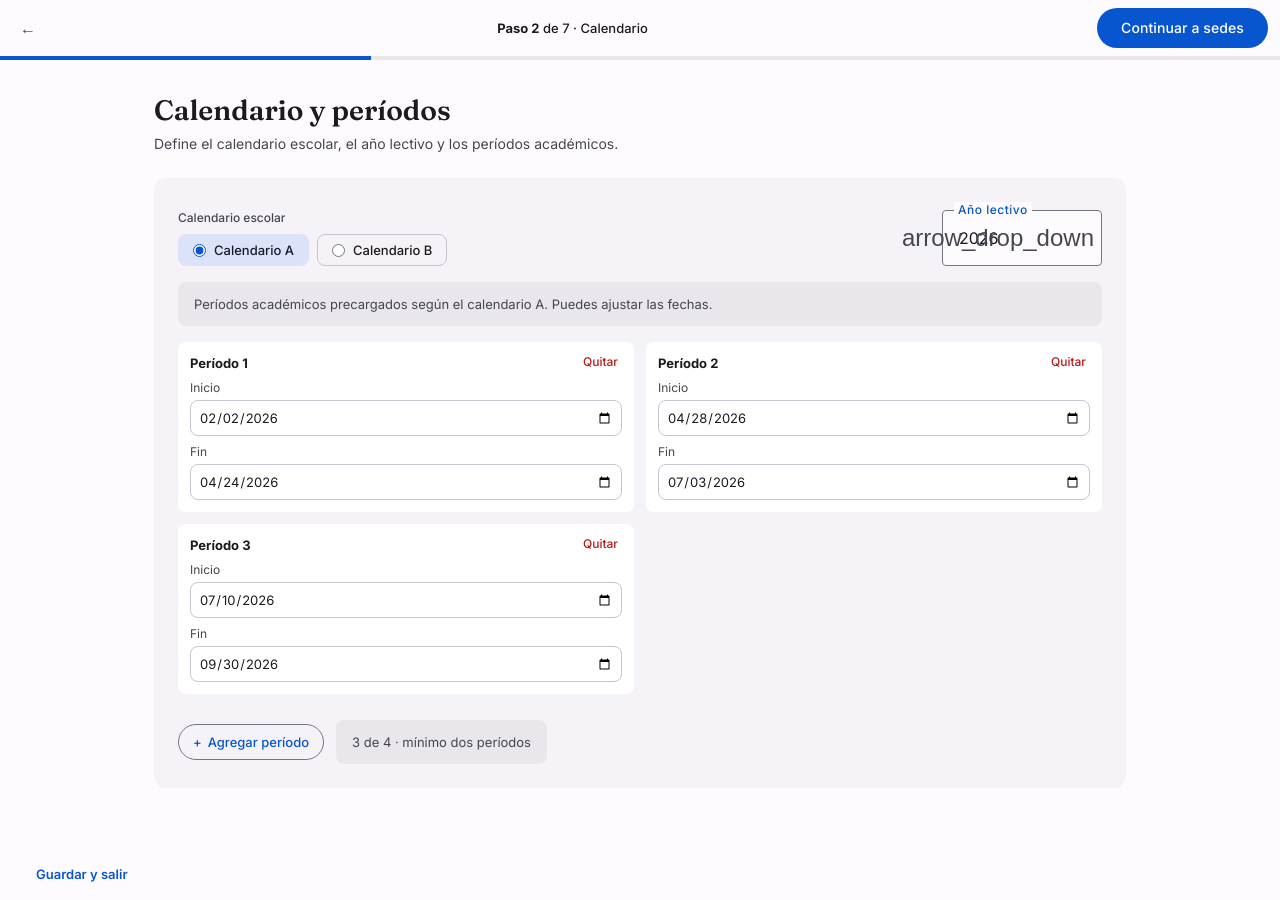
it: Onboarding · paso 1 (identidad) › agrega períodos hasta el tope de cuatro y no deja pasar de ahí
The image size is (1280, 900).
expect the radio button labelled "Calendario A" is shown: met, box left=193, top=244, right=206, bottom=256
expect the text "3 de 4 · mínimo dos períodos" is shown: met, box left=336, top=720, right=547, bottom=764
Click the button "+ Agregar período": (251, 742) left=178, top=724, right=324, bottom=760
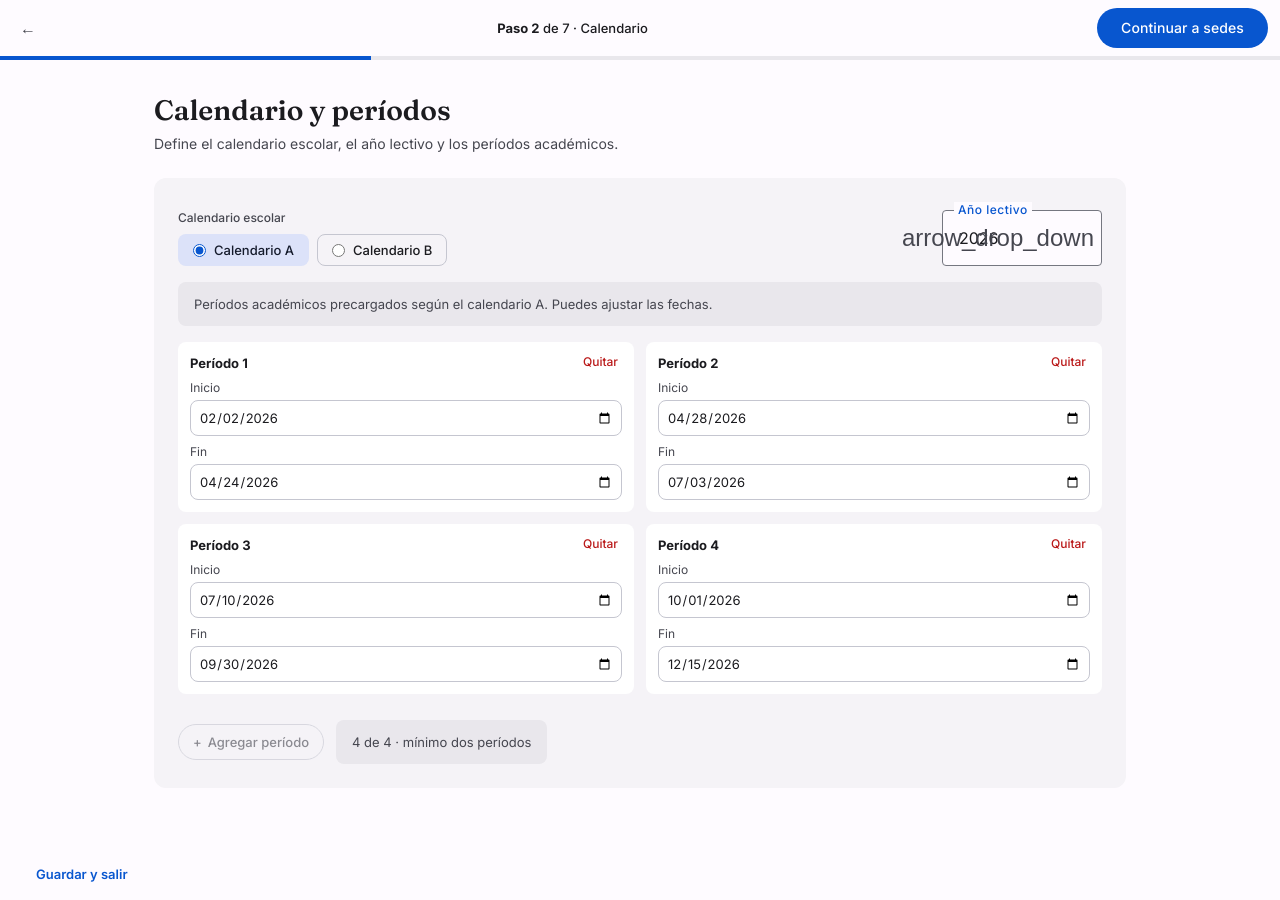
expect the text "4 de 4 · mínimo dos períodos" is shown: met, box left=336, top=720, right=547, bottom=764
expect the text "Período 4" is shown: met, box left=658, top=537, right=719, bottom=553
expect the button "+ Agregar período" is disabled: met, box left=178, top=724, right=324, bottom=760
